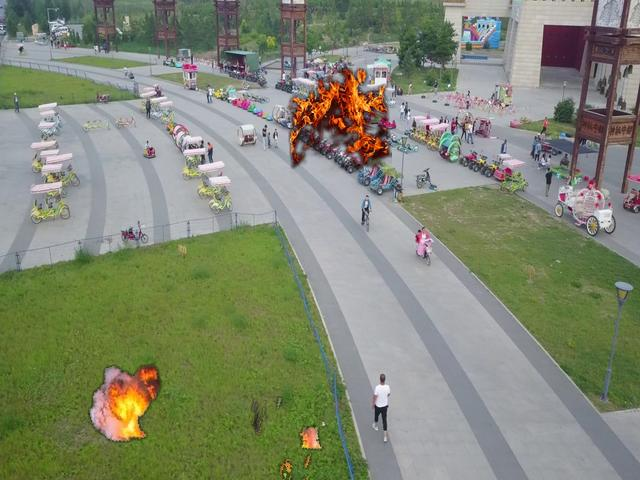fire: (287, 68, 390, 170), (249, 397, 323, 480), (88, 362, 162, 443)
